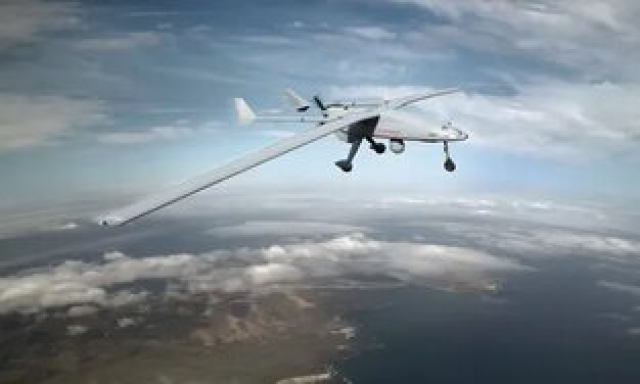military drone: (96, 87, 469, 228)
